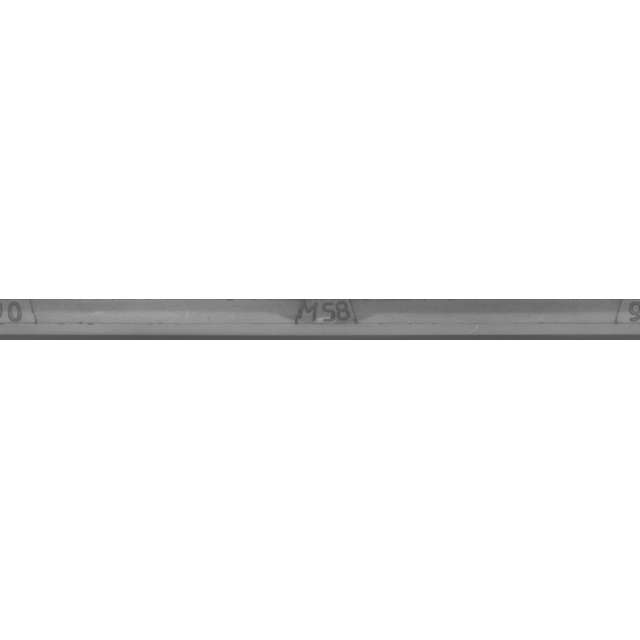mohao: (223, 270, 423, 370)
xuehao: (0, 270, 105, 370)
